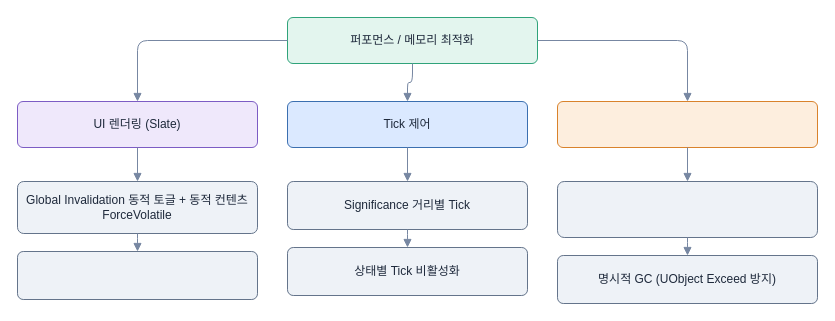
This 835x321 diagram has some shape labels left out. Here are the shapes that lost their labels. From the top down, the centre of each, then its label:
At point (687, 124): "메모리 관리".
At point (687, 209): "오브젝트 풀링 — 반납 시 Tick 먼저 정지 (freed-tick 크래시 방지)".
At point (137, 275): "풀스크린 시 GameRendering false".
